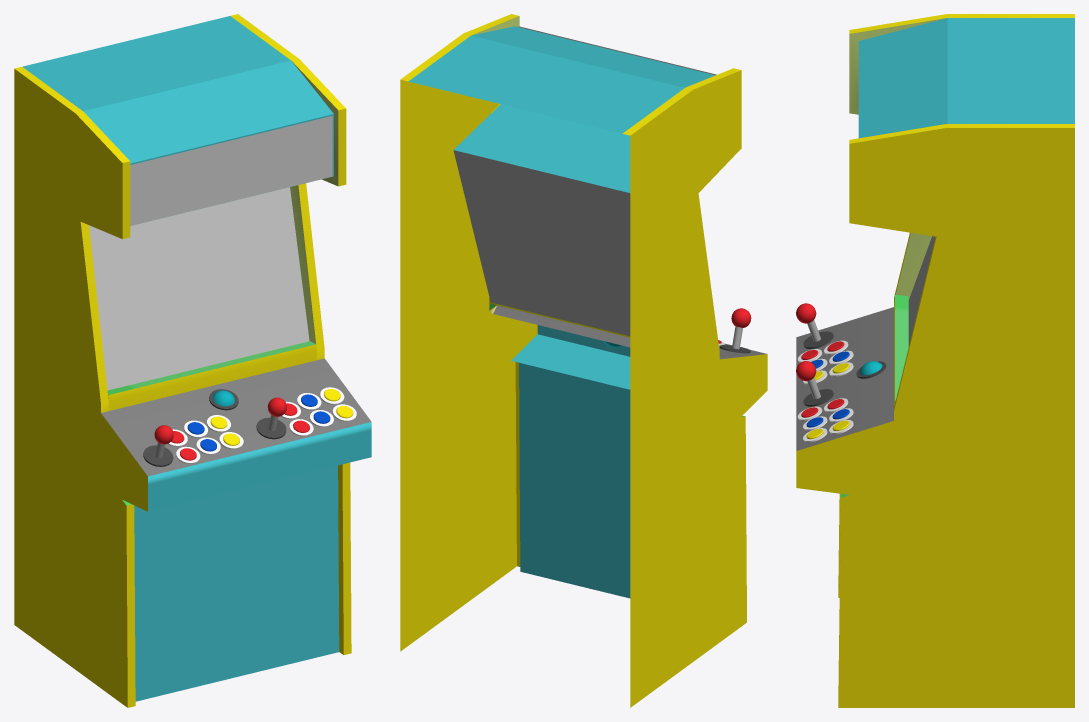
File: ArcadeDonkeyKong.fbx
3 renders of one model, left to right at view 1: azimuth 30°, elevation 25°; view 2: azimuth 150°, elevation 25°; view 3: azimuth 270°, elevation 25°, orthographic. The views are drawn at different scales.
Parts seen in each view (by area): view 1: ArcadeDonkeyKong; view 2: ArcadeDonkeyKong; view 3: ArcadeDonkeyKong.
Boxes of the visible parts, left/top/right/bottom form: ArcadeDonkeyKong: left=14, top=14, right=371, bottom=707; ArcadeDonkeyKong: left=400, top=14, right=767, bottom=707; ArcadeDonkeyKong: left=796, top=14, right=1074, bottom=707.
Size of the model in its own units: 79.55 by 189 by 82.37.
